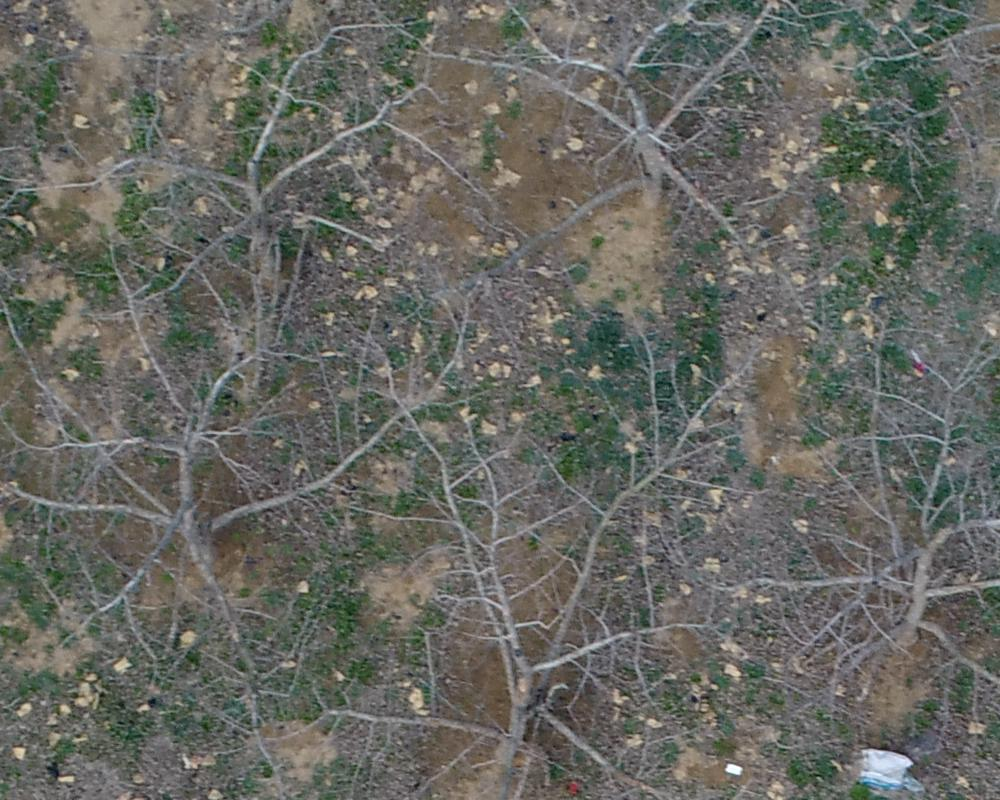apple: (344, 359, 831, 790), (10, 255, 470, 682), (50, 16, 455, 320), (713, 320, 990, 742), (426, 10, 808, 283), (817, 10, 990, 232)
